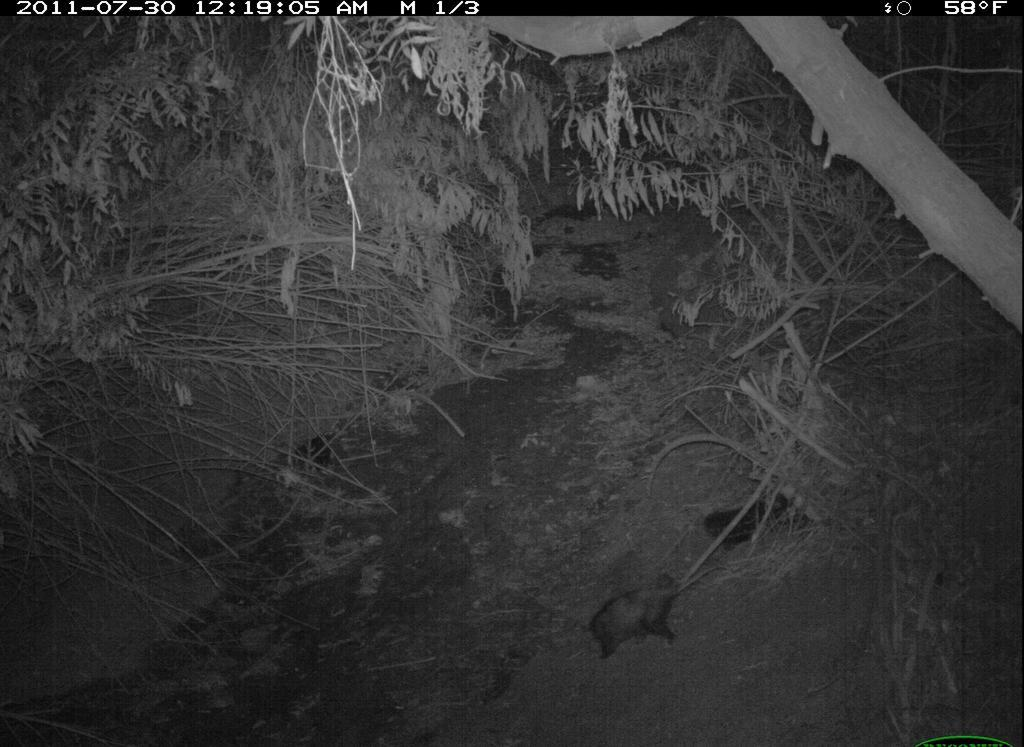opossum: (588, 562, 724, 662)
